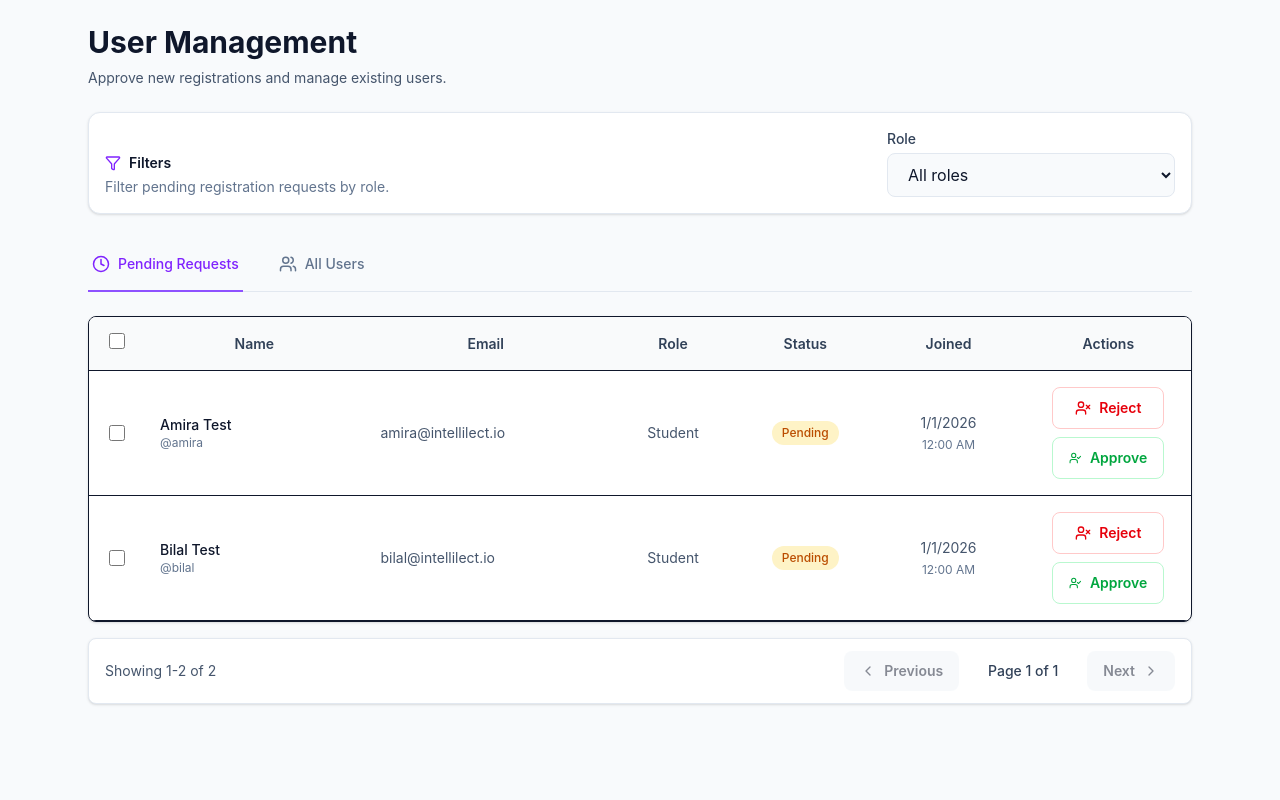
Scenario: AdminDashboard bulk selection › selects a row and reports the count
The width and height of the screenshot is (1280, 800).
Expected: the text "Amira Test" is shown, [160,416,232,433]
Click the checkbox named "Select Amira Test". click: {"x": 116, "y": 433}
box: [108,425,124,441]
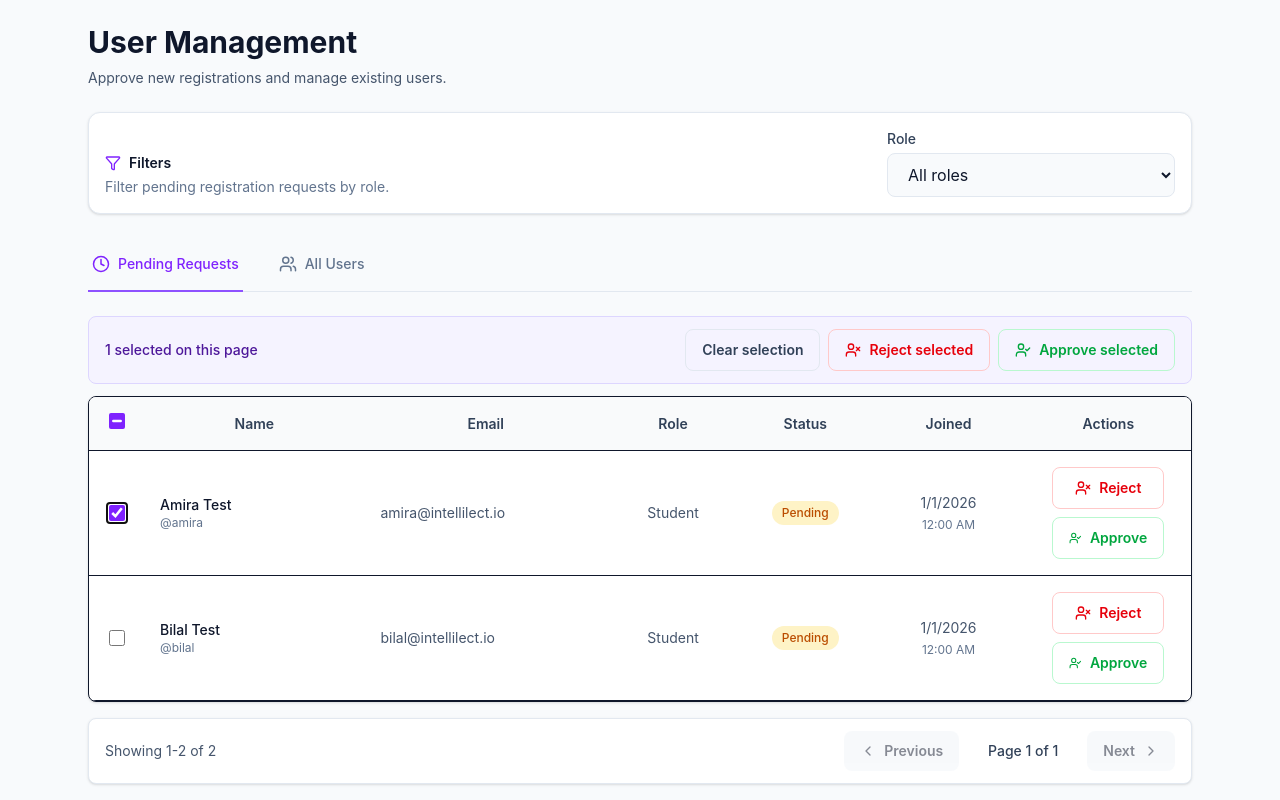
Expected: the text "1 selected on this page" is shown, [105,340,258,360]
